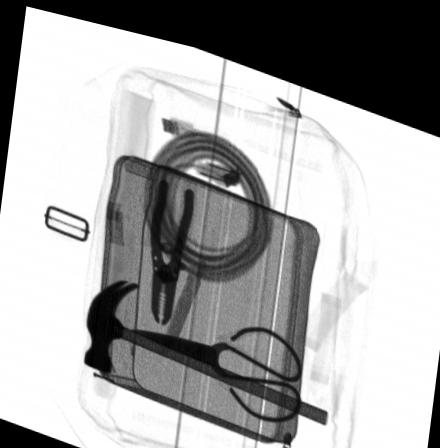Hammer: (84, 271, 328, 410)
Knife: (162, 192, 234, 345)
Pliers: (149, 169, 193, 316)
Scissors: (131, 311, 304, 410)
